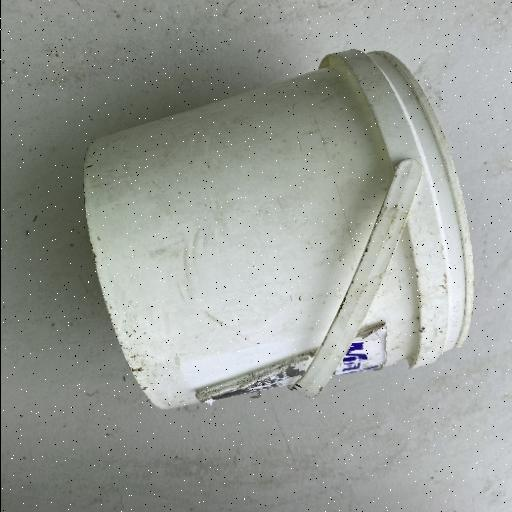Plastic: (80, 46, 476, 412)
